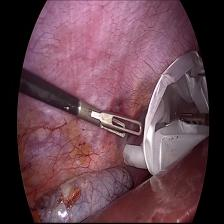Specimen Bag: (143, 50, 207, 180)
